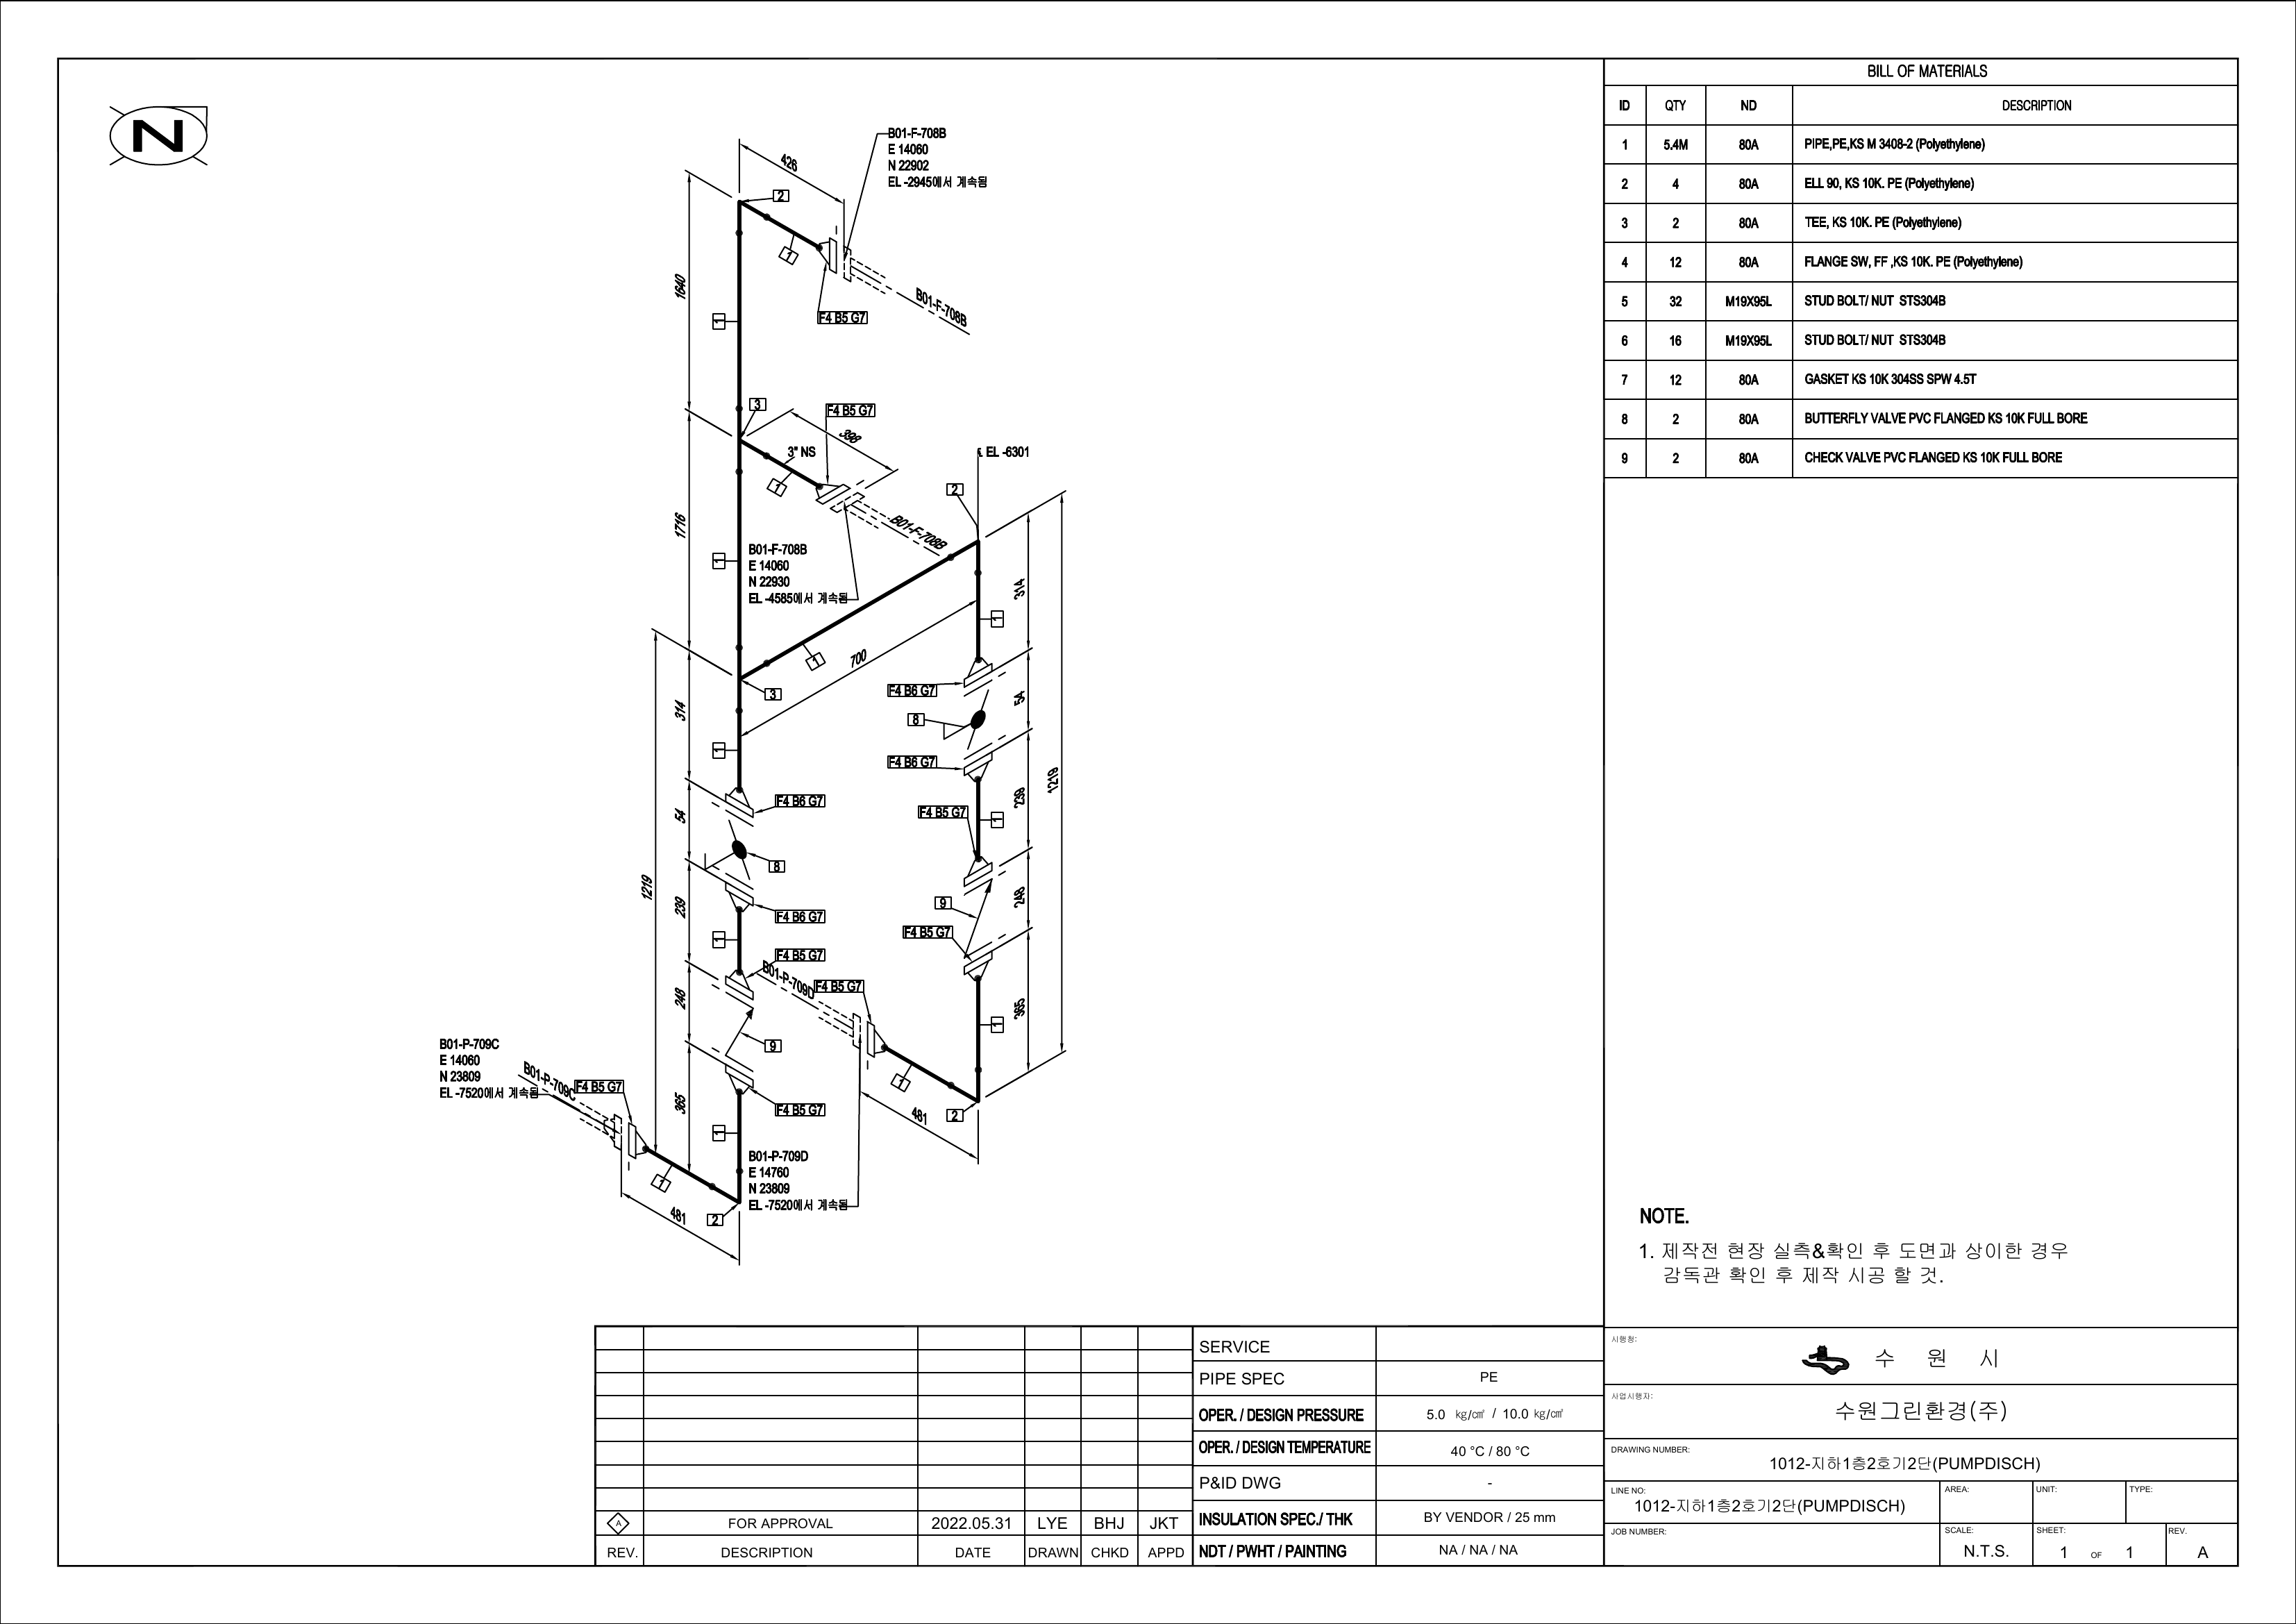table: (1597, 49, 2243, 490)
